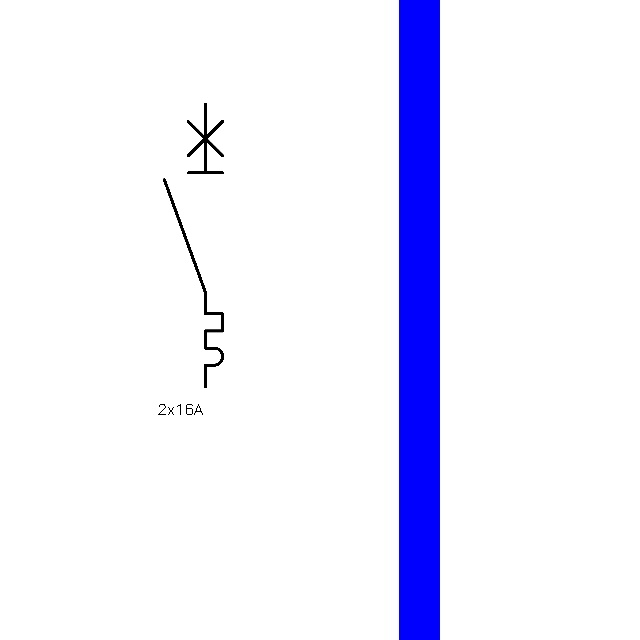interruptor_termomagnetico: (157, 97, 230, 394)
